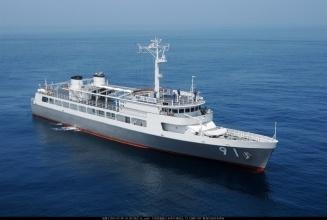otherboat: (30, 61, 300, 166)
